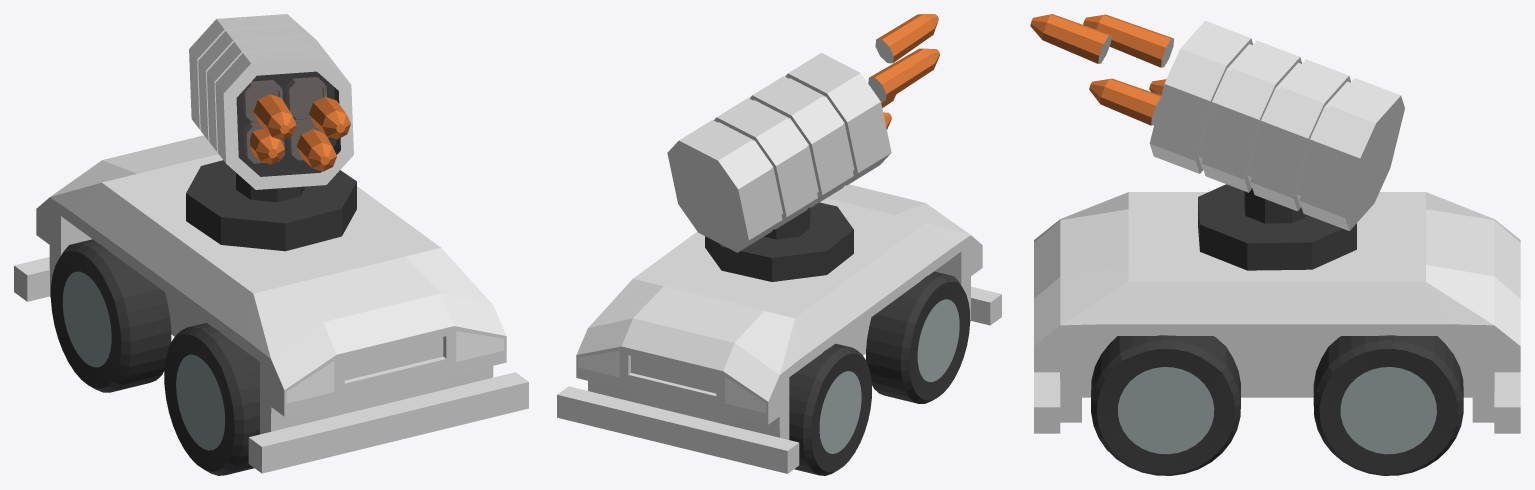
Rendered from sasha-toy-tank-1.fbx.
The picture shows the model from 3 angles, left to right: view 1: azimuth 30°, elevation 25°; view 2: azimuth 150°, elevation 25°; view 3: azimuth 270°, elevation 25°; orthographic projection. The views are drawn at different scales.
Visible parts, largest first — view 1: Base, Roket launcher, Wheels; view 2: Base, Roket launcher, Wheels; view 3: Base, Roket launcher, Wheels.
Boxes of the visible parts, bbox=[...] form: Base: bbox=[14, 135, 528, 473]; Roket launcher: bbox=[186, 14, 356, 251]; Wheels: bbox=[50, 239, 259, 475]; Base: bbox=[557, 184, 1001, 473]; Roket launcher: bbox=[667, 14, 939, 281]; Wheels: bbox=[789, 271, 970, 475]; Base: bbox=[1034, 192, 1520, 433]; Roket launcher: bbox=[1030, 14, 1404, 270]; Wheels: bbox=[1091, 335, 1463, 475].
Bounding box in the file's own units: 356 × 491 × 577.
